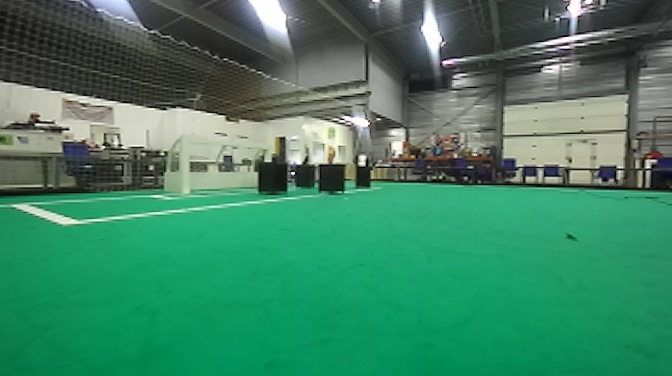goalpost: (178, 134, 192, 199), (263, 144, 272, 163)
